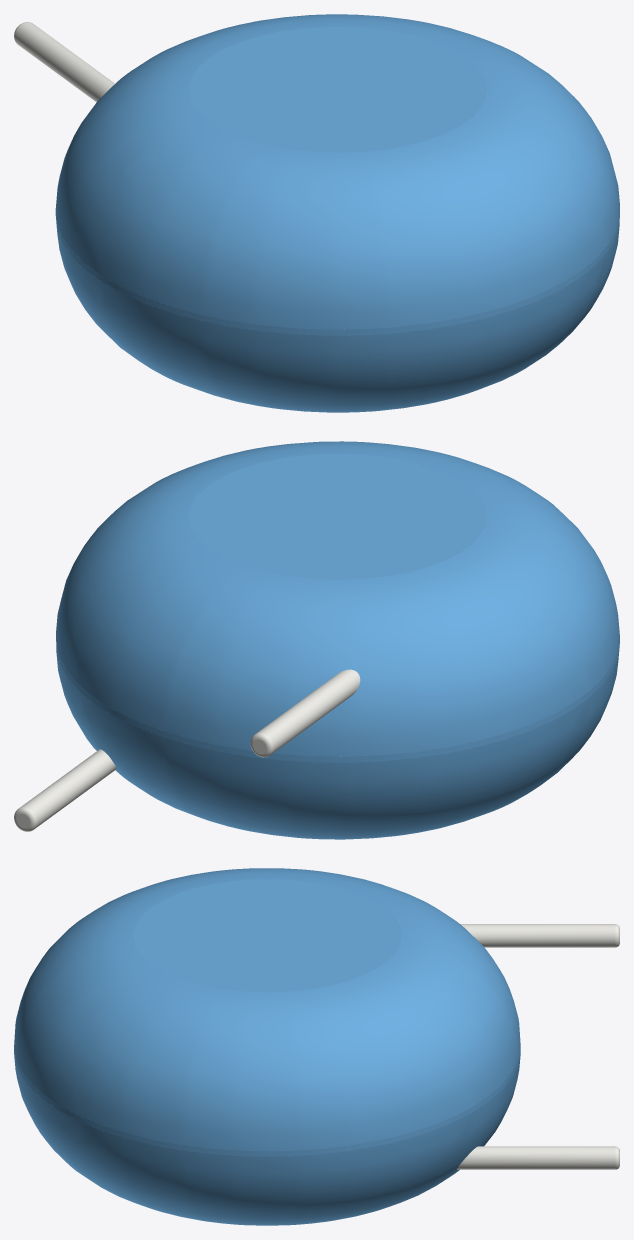
File: RV_Disc_D15.5mm_W7.5mm_P7.5mm.glb
3 views of the same model, one above another, from view 1: azimuth 30°, elevation 25°; view 2: azimuth 150°, elevation 25°; view 3: azimuth 270°, elevation 25° (orthographic). The views are drawn at different scales.
Parts seen in each view (by area): view 1: Shape_IndexedFaceSet.001, Shape_IndexedFaceSet.002, Shape_IndexedFaceSet.003, Shape_IndexedFaceSet, Shape_IndexedFaceSet.004; view 2: Shape_IndexedFaceSet.001, Shape_IndexedFaceSet.002, Shape_IndexedFaceSet.003, Shape_IndexedFaceSet, Shape_IndexedFaceSet.004, Shape_IndexedFaceSet.006; view 3: Shape_IndexedFaceSet.001, Shape_IndexedFaceSet.002, Shape_IndexedFaceSet.003, Shape_IndexedFaceSet.006, Shape_IndexedFaceSet.004, Shape_IndexedFaceSet.
Part boxes in pixels (<box>): Shape_IndexedFaceSet.001: <box>55,14,619,329</box>; Shape_IndexedFaceSet.002: <box>56,219,619,412</box>; Shape_IndexedFaceSet.003: <box>189,27,486,152</box>; Shape_IndexedFaceSet: <box>55,210,619,335</box>; Shape_IndexedFaceSet.004: <box>14,22,114,102</box>; Shape_IndexedFaceSet.001: <box>56,441,619,756</box>; Shape_IndexedFaceSet.002: <box>56,647,619,839</box>; Shape_IndexedFaceSet.003: <box>189,454,486,579</box>; Shape_IndexedFaceSet: <box>56,636,619,762</box>; Shape_IndexedFaceSet.004: <box>256,669,360,754</box>; Shape_IndexedFaceSet.006: <box>20,749,116,828</box>; Shape_IndexedFaceSet.001: <box>14,868,520,1151</box>; Shape_IndexedFaceSet.002: <box>14,1054,520,1225</box>; Shape_IndexedFaceSet.003: <box>133,879,400,992</box>; Shape_IndexedFaceSet.006: <box>457,1146,615,1169</box>; Shape_IndexedFaceSet.004: <box>460,924,615,947</box>; Shape_IndexedFaceSet: <box>14,1048,520,1156</box>.
Bounding box in the file's own units: 6.1 × 2.95 × 7.29.
